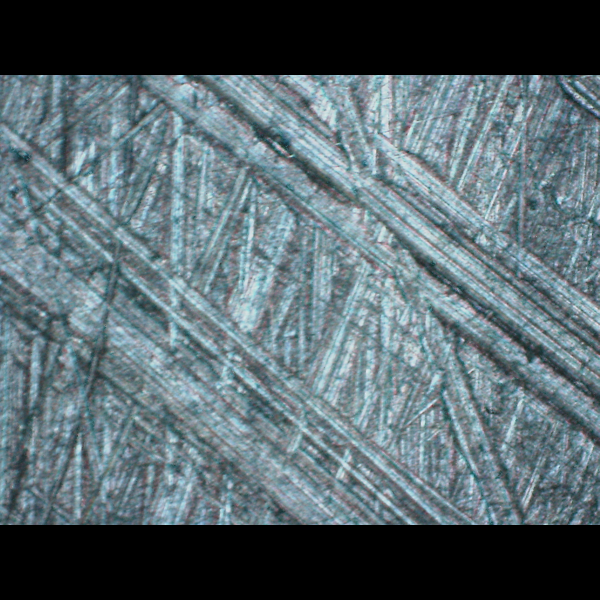d: (0, 120, 482, 525), (134, 75, 600, 441)
